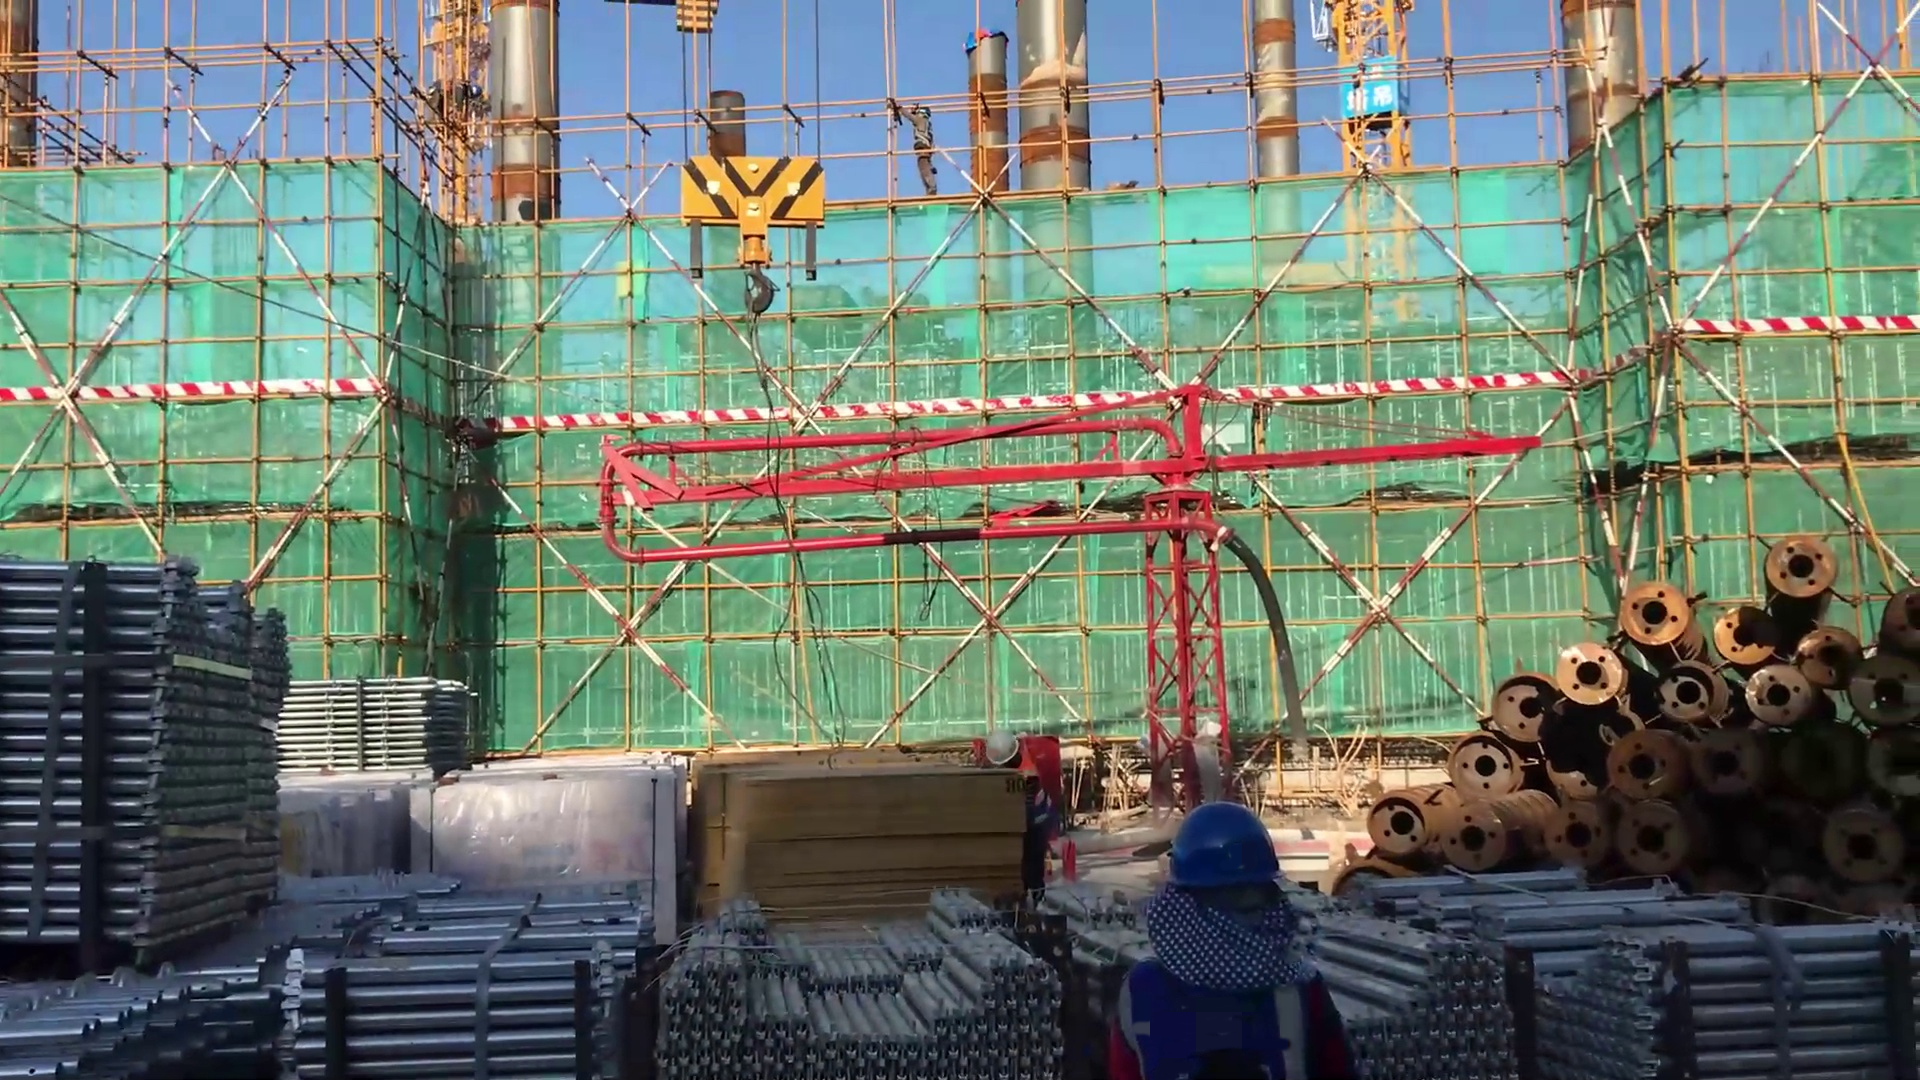board: (693, 755, 1020, 915)
helmet: (1165, 806, 1288, 894), (980, 726, 1023, 777), (911, 102, 933, 120)
hook: (681, 142, 822, 335)
person: (1104, 808, 1352, 1080), (967, 731, 1070, 934), (882, 81, 944, 205)
scaffold: (1280, 855, 1890, 1078), (5, 546, 281, 973), (649, 884, 1075, 1080), (1, 880, 415, 1080), (333, 870, 643, 1080), (272, 676, 476, 776)
slogan: (1344, 55, 1406, 124)
vest: (1112, 947, 1322, 1080), (1000, 763, 1057, 842)
